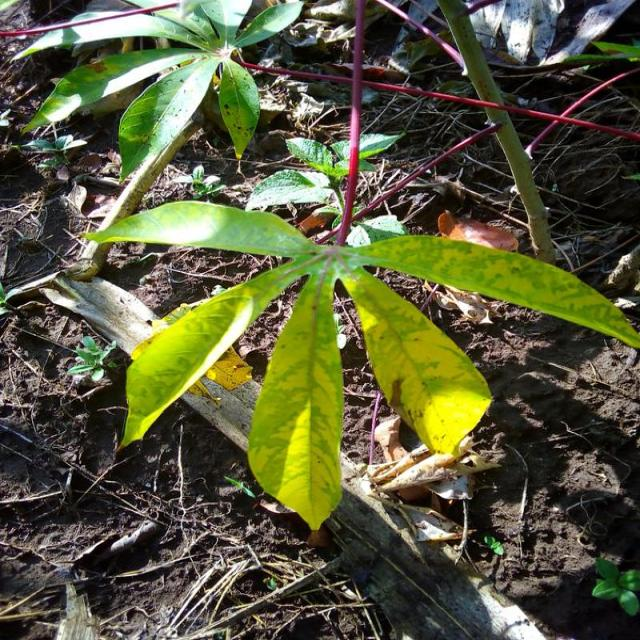cassava leaf: (79, 197, 639, 530), (341, 260, 494, 458), (247, 257, 346, 531), (119, 287, 256, 451)
